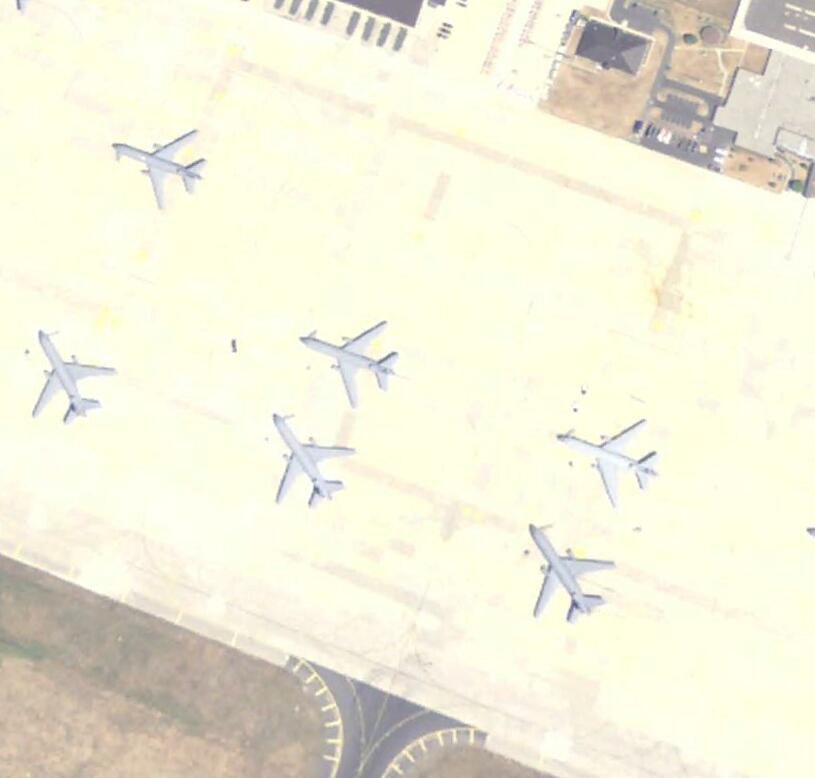A18: (556, 411, 664, 512), (295, 316, 400, 409), (526, 523, 620, 625), (28, 326, 122, 427), (268, 410, 356, 509), (111, 125, 210, 211)
